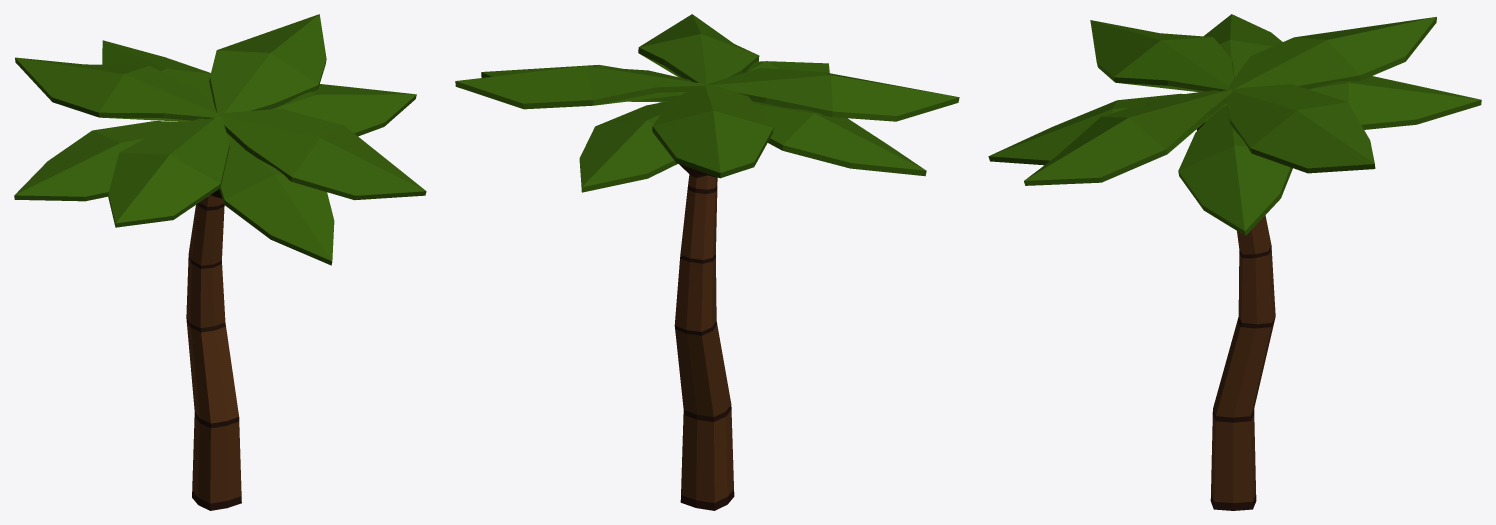
Rendered from palmera.obj.
3 views of the same model, side by side, from view 1: azimuth 30°, elevation 25°; view 2: azimuth 150°, elevation 25°; view 3: azimuth 270°, elevation 25° (orthographic). The views are drawn at different scales.
Visible parts, largest first — view 1: Cube.002; view 2: Cube.002; view 3: Cube.002.
Part boxes in pixels (box(x1,y1,x2,y2)): Cube.002: box(14, 14, 426, 510); Cube.002: box(455, 14, 959, 510); Cube.002: box(988, 14, 1481, 510).
Size of the model in its own units: 2910 by 2763 by 2836.
